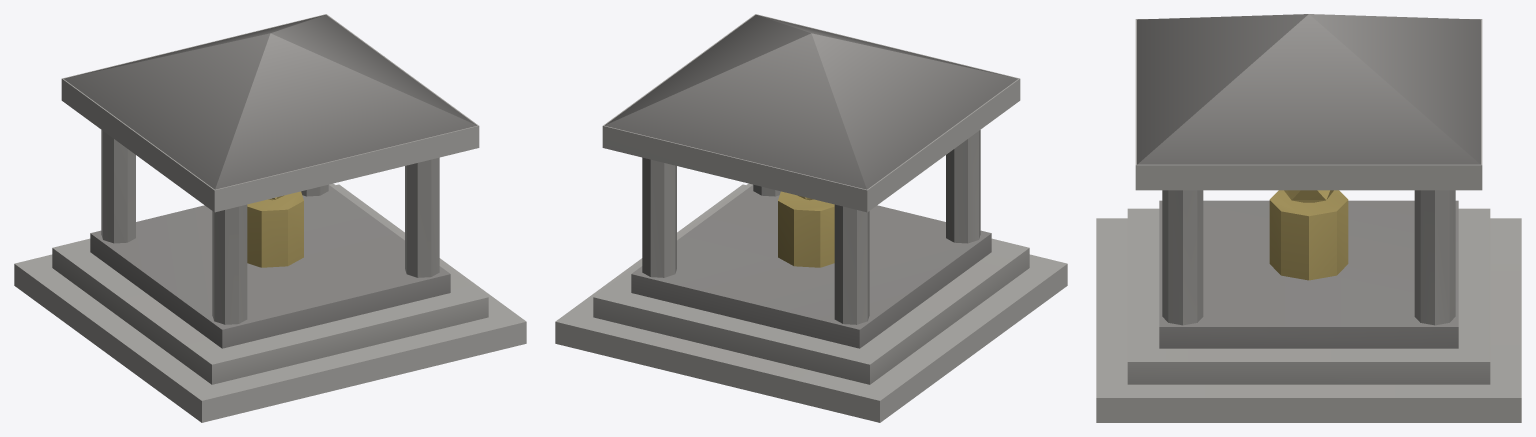
Rendered from temple.glb.
3 renders of one model, left to right at view 1: azimuth 30°, elevation 25°; view 2: azimuth 150°, elevation 25°; view 3: azimuth 270°, elevation 25°, orthographic. The views are drawn at different scales.
Visible parts, largest first — view 1: temple; view 2: temple; view 3: temple.
Boxes of the visible parts, x1,y1,x2,y2 form: temple: (14, 14, 526, 422); temple: (555, 14, 1067, 422); temple: (1096, 14, 1521, 422).
Bounding box in the file's own units: 5.4 × 4.47 × 5.4.
